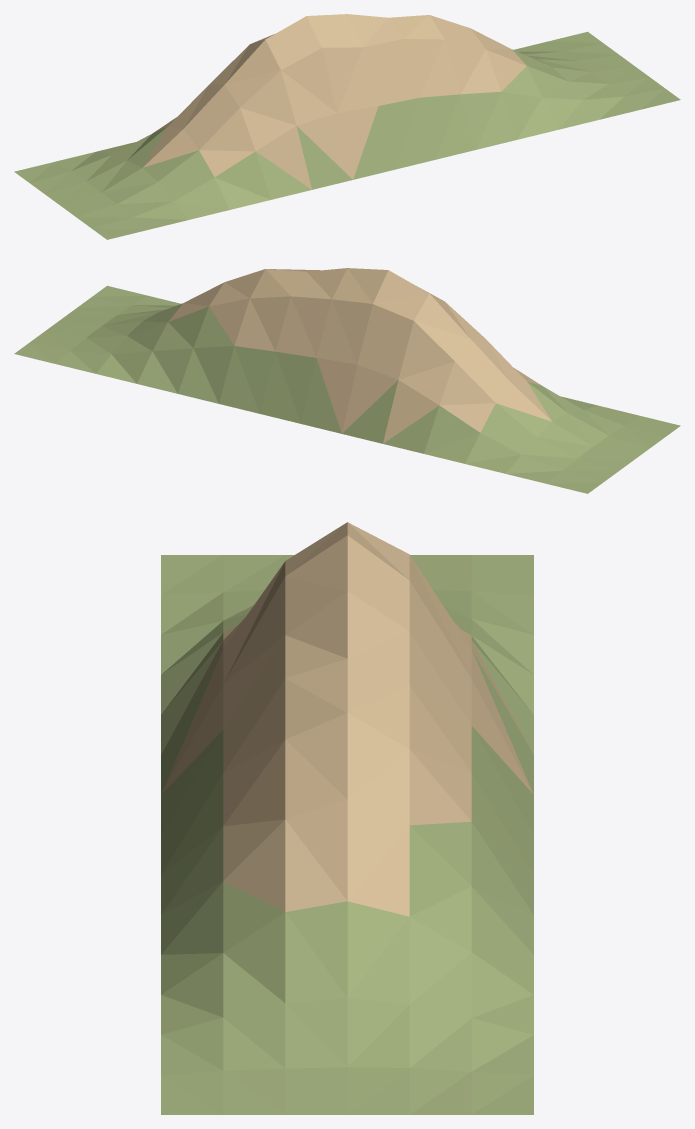
Rendered from ENV_N1_ColinaFondo.fbx.
3 views of the same model, one above another, from view 1: azimuth 30°, elevation 25°; view 2: azimuth 150°, elevation 25°; view 3: azimuth 270°, elevation 25° (orthographic). The views are drawn at different scales.
Visible parts, largest first — view 1: ENV_N1_ColinaFondo; view 2: ENV_N1_ColinaFondo; view 3: ENV_N1_ColinaFondo.
Part boxes in pixels (x1=…): ENV_N1_ColinaFondo: x1=14, y1=14, x2=680, y2=239; ENV_N1_ColinaFondo: x1=14, y1=268, x2=680, y2=493; ENV_N1_ColinaFondo: x1=161, y1=522, x2=533, y2=1114.
Size of the model in its own units: 64 by 13.83 by 18.
